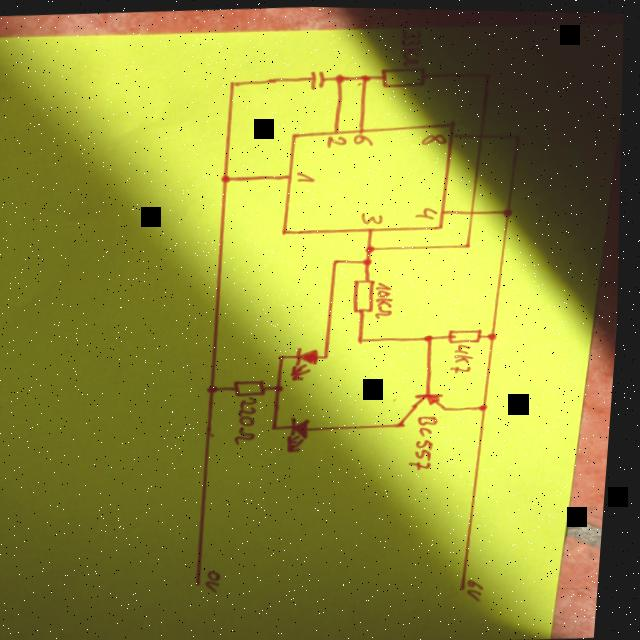capacitor: (307, 68, 329, 90)
crossover: (477, 130, 488, 140), (469, 206, 480, 216)
diode: (294, 345, 326, 379), (291, 414, 319, 451)
junction: (334, 70, 348, 84), (358, 71, 374, 83), (503, 204, 517, 217), (211, 383, 226, 394), (427, 330, 441, 341), (221, 173, 235, 184), (490, 329, 503, 339), (367, 242, 379, 252), (483, 400, 495, 410), (483, 67, 494, 77), (278, 383, 290, 392), (359, 335, 372, 343), (366, 255, 377, 264), (229, 79, 241, 87), (334, 256, 344, 264), (276, 422, 286, 430), (281, 352, 291, 360), (468, 239, 476, 247), (327, 352, 336, 358), (517, 133, 523, 137)
resistor: (379, 64, 429, 87), (354, 275, 381, 313), (236, 378, 273, 396), (450, 325, 488, 342)
terminal: (467, 582, 475, 589), (203, 580, 211, 586)
text: (411, 412, 448, 469), (237, 395, 266, 444), (399, 25, 426, 66), (377, 278, 400, 318), (453, 341, 481, 372), (474, 576, 494, 599), (422, 129, 450, 145), (213, 568, 231, 592), (415, 204, 443, 219), (363, 210, 388, 224), (328, 133, 350, 147), (354, 132, 376, 145), (297, 169, 318, 182)
transistor: (402, 389, 456, 427)
